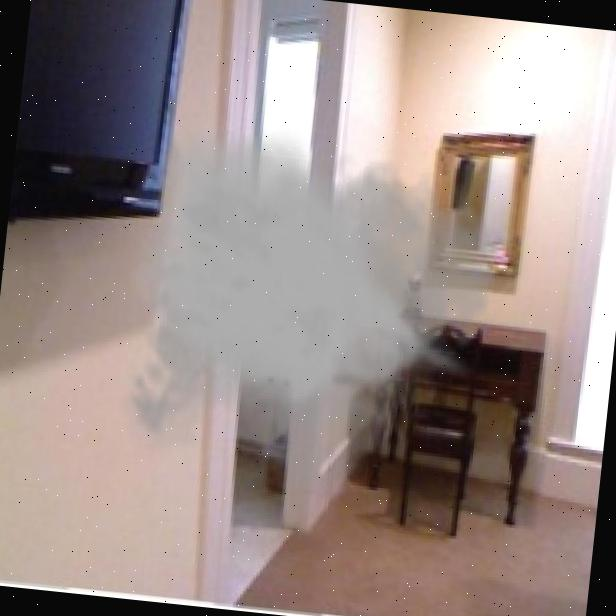smoke: (109, 104, 514, 512)
